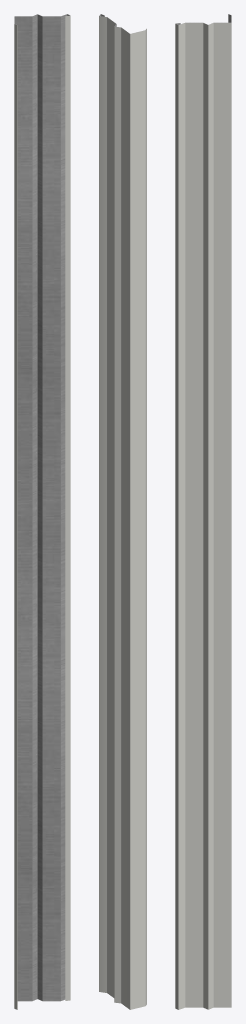
The model's file is bande de rive mouluré.gltf.
3 renders of one model, left to right at view 1: azimuth 90°, elevation 25°; view 2: azimuth 210°, elevation 25°; view 3: azimuth 270°, elevation 25°, orthographic.
Visible parts, largest first — view 1: bande de rive mouluré; view 2: bande de rive mouluré; view 3: bande de rive mouluré.
Boxes of the visible parts, box(x1,y1,x2,y2) form: bande de rive mouluré: box(14, 14, 70, 1009); bande de rive mouluré: box(99, 14, 146, 1009); bande de rive mouluré: box(175, 14, 231, 1009).
Size of the model in its own units: 0.0736 by 3 by 0.1555.
2 materials, 1 textured.
